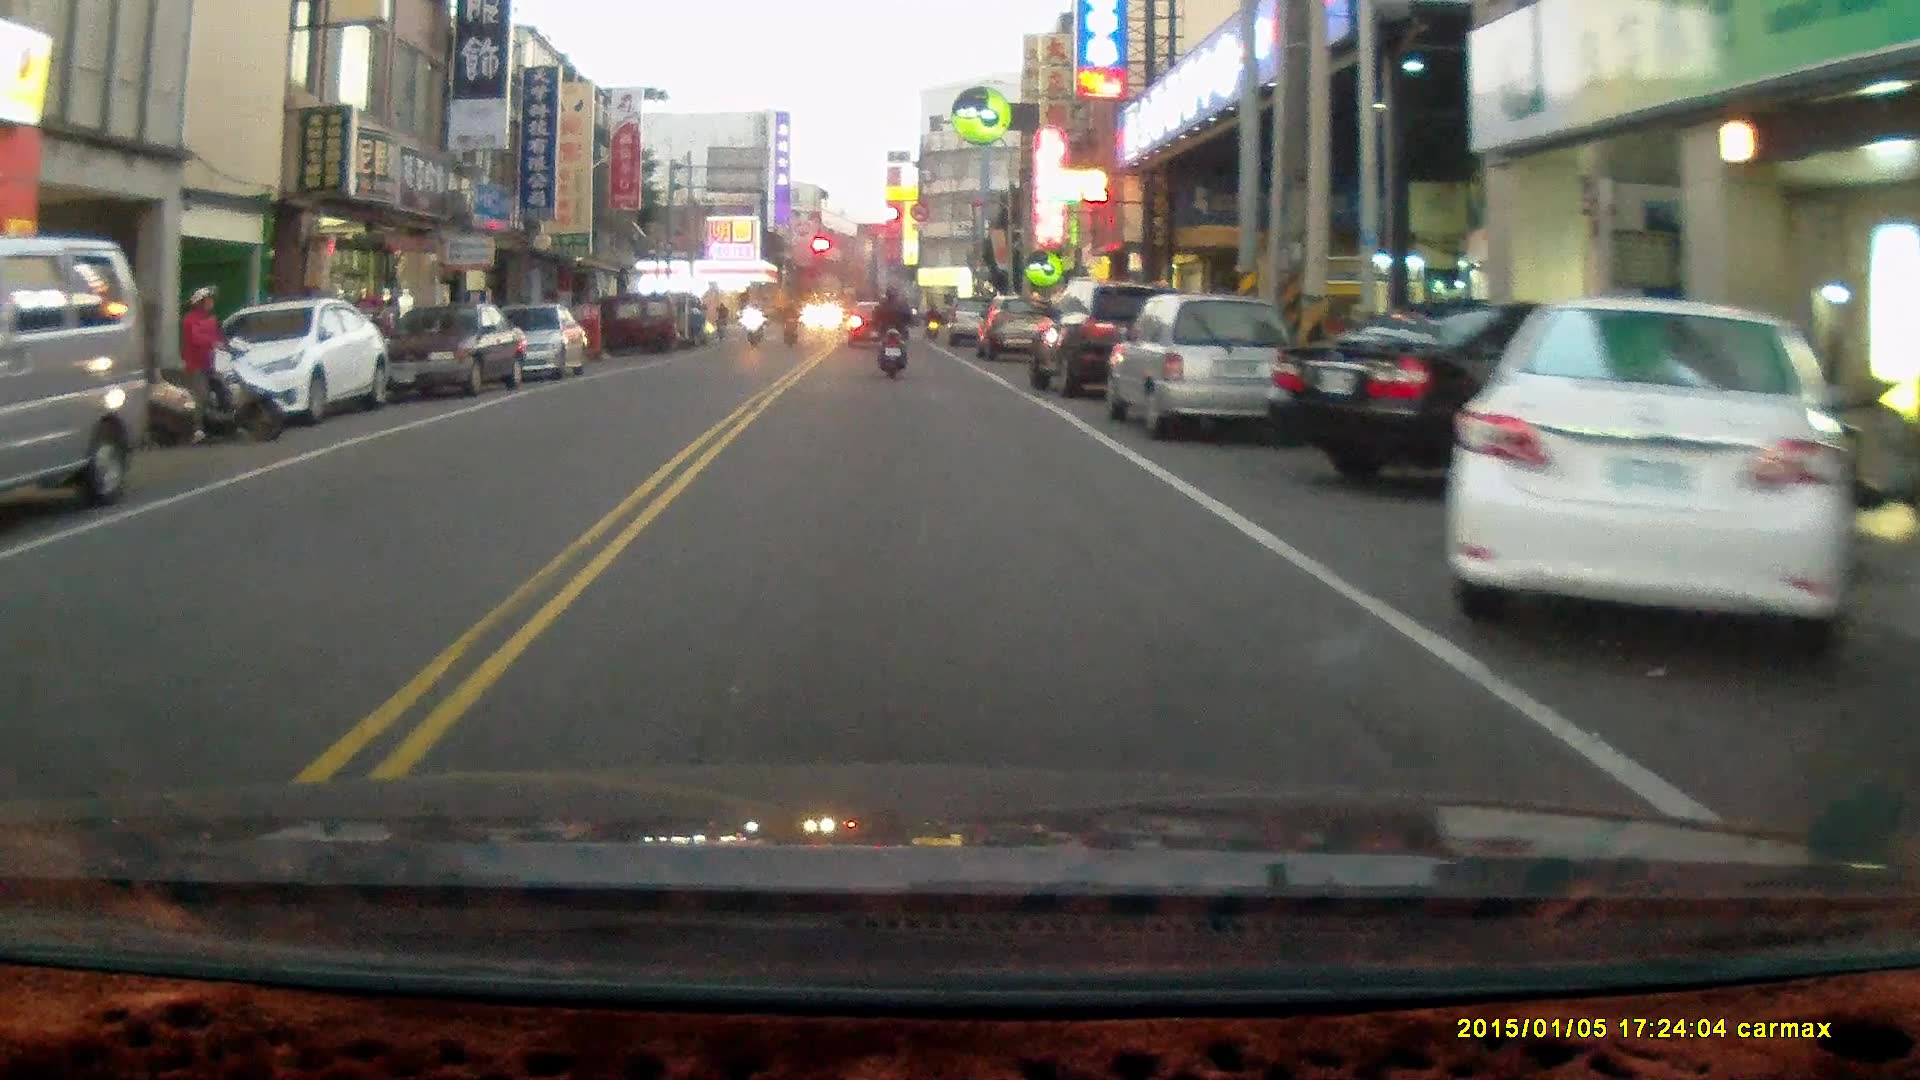rider: (139, 285, 281, 443), (868, 281, 911, 381), (739, 297, 765, 347)
vehicle: (1444, 294, 1855, 648), (1274, 298, 1768, 501), (1, 235, 147, 510), (1109, 292, 1307, 433), (181, 291, 385, 422), (1026, 280, 1188, 399), (365, 299, 527, 396), (467, 297, 586, 379)
